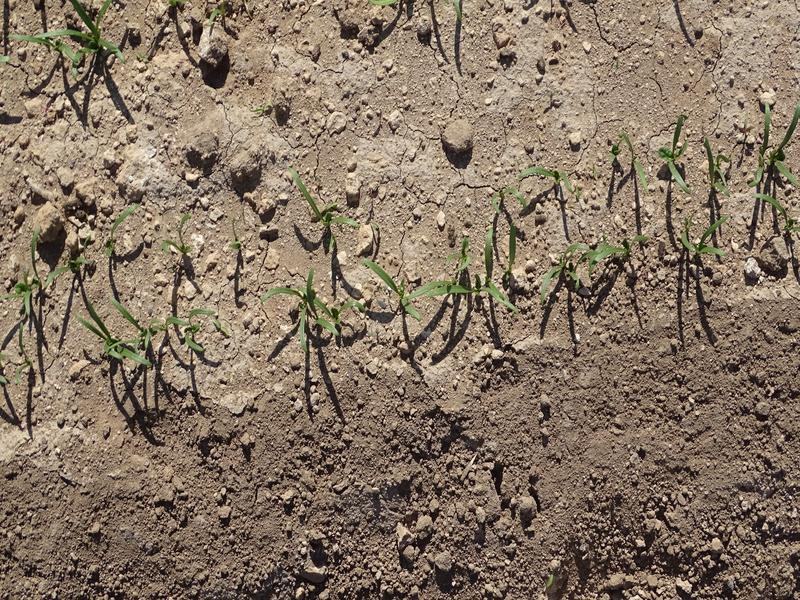Espinaca: (362, 227, 523, 325), (73, 300, 221, 378), (13, 3, 126, 84), (538, 231, 651, 299), (9, 244, 88, 336), (266, 268, 357, 341), (291, 166, 361, 230), (751, 106, 800, 185), (661, 119, 692, 194), (676, 214, 730, 255), (105, 203, 142, 256), (754, 191, 797, 233), (623, 133, 651, 194), (516, 164, 574, 191), (704, 137, 730, 193), (163, 210, 192, 258)
